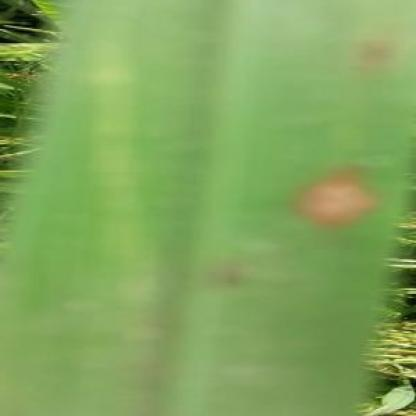Rice blast: (287, 174, 381, 226)
